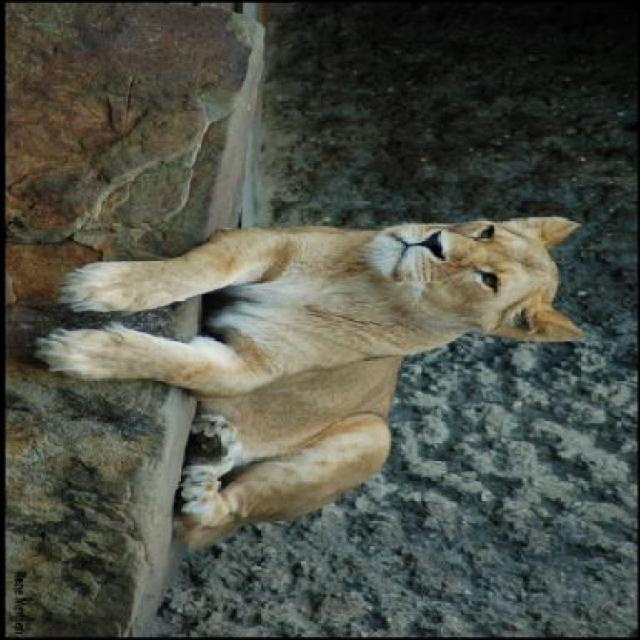Lion: (37, 197, 594, 555)
